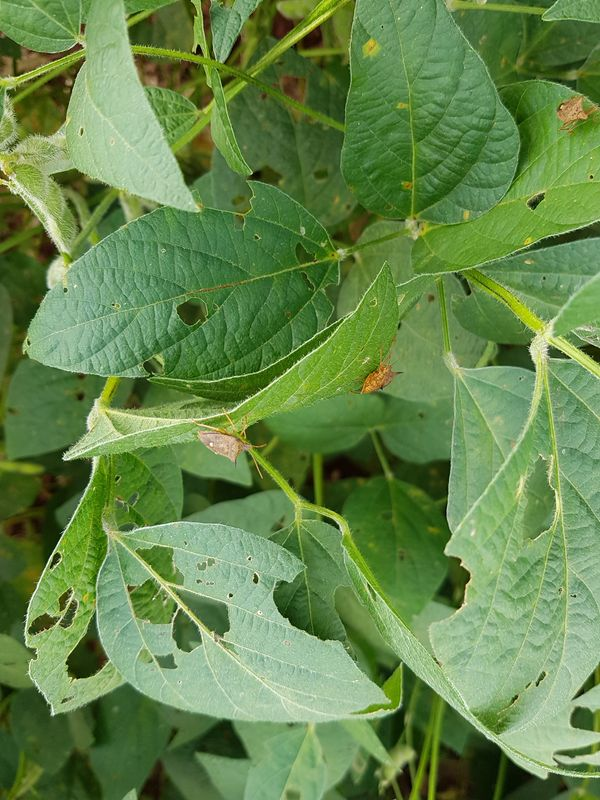Euschistus_heros_adulto: (184, 407, 269, 480), (346, 350, 409, 405), (549, 86, 600, 142)
